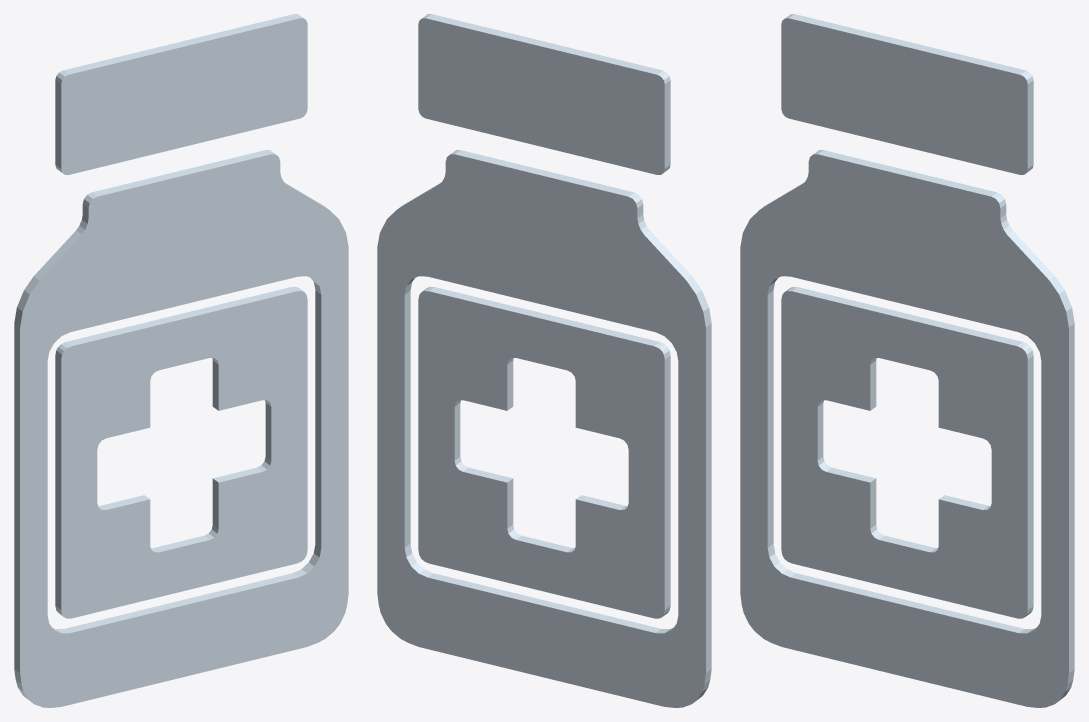
Rendered from Medicine_Bottle_3D_Icon.fbx.
3 renders of one model, left to right at view 1: azimuth 30°, elevation 25°; view 2: azimuth 150°, elevation 25°; view 3: azimuth 330°, elevation 25°, orthographic.
Visible parts, largest first — view 1: Medicine_Bottle_3D_Icon_01; view 2: Medicine_Bottle_3D_Icon_01; view 3: Medicine_Bottle_3D_Icon_01.
Part boxes in pixels (x1=…): Medicine_Bottle_3D_Icon_01: x1=14, y1=14, x2=348, y2=707; Medicine_Bottle_3D_Icon_01: x1=377, y1=14, x2=711, y2=707; Medicine_Bottle_3D_Icon_01: x1=740, y1=14, x2=1074, y2=707.
Size of the model in its own units: 64.8 by 119 by 2.
